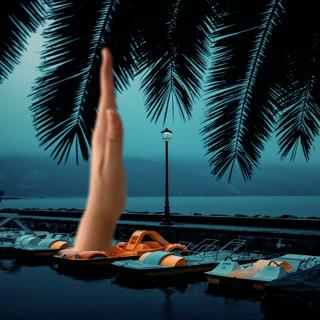Right: (79, 45, 140, 241)
